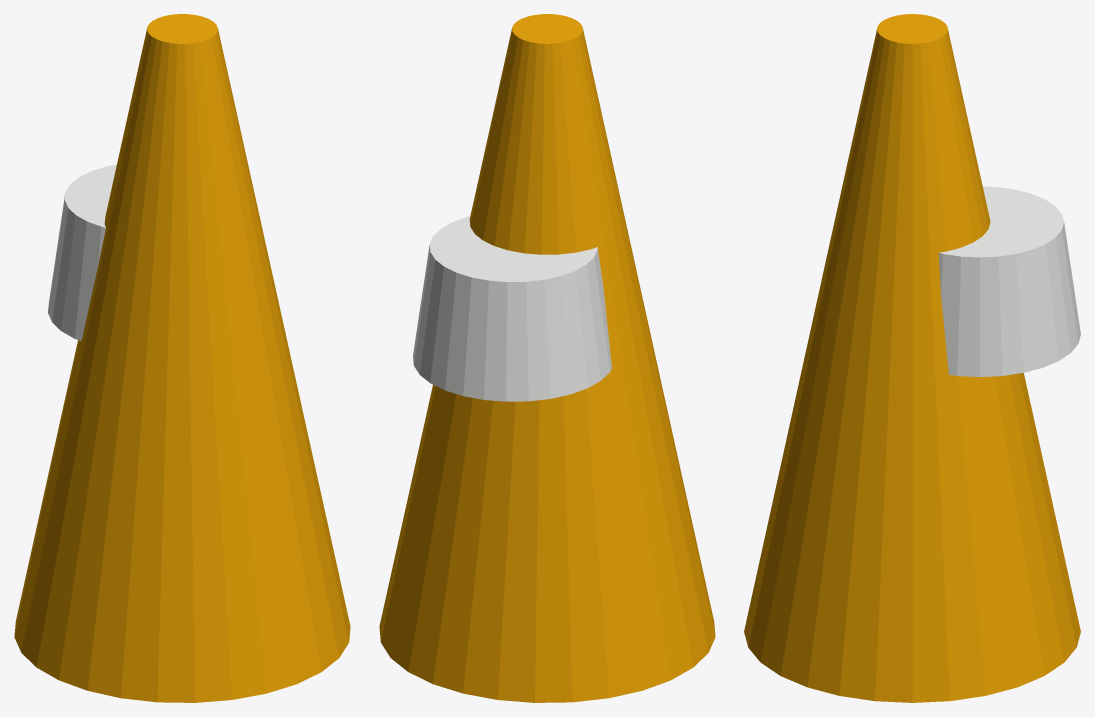
3 views of the same model, side by side, from view 1: azimuth 30°, elevation 25°; view 2: azimuth 150°, elevation 25°; view 3: azimuth 270°, elevation 25° (orthographic).
Parts seen in each view (by area): view 1: K5a_sol00, K5a_sol01; view 2: K5a_sol00, K5a_sol01; view 3: K5a_sol00, K5a_sol01.
Part boxes in pixels (left/top/right/bottom): K5a_sol00: left=14, top=14, right=350, bottom=702; K5a_sol01: left=48, top=164, right=116, bottom=341; K5a_sol00: left=379, top=14, right=715, bottom=702; K5a_sol01: left=413, top=216, right=611, bottom=401; K5a_sol00: left=744, top=14, right=1080, bottom=702; K5a_sol01: left=938, top=186, right=1080, bottom=376.
Size of the model in its own units: 0.38 by 0.75 by 0.38.
